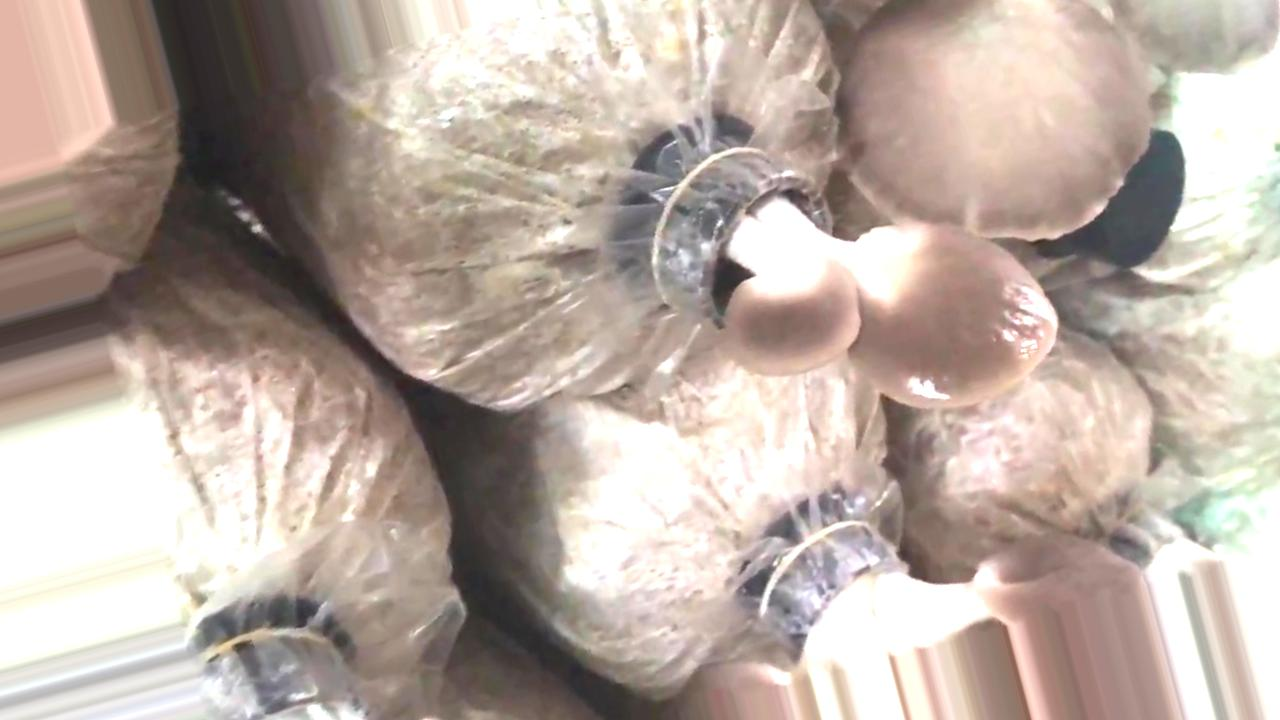nam: (641, 132, 1061, 417), (843, 1, 1151, 242)
